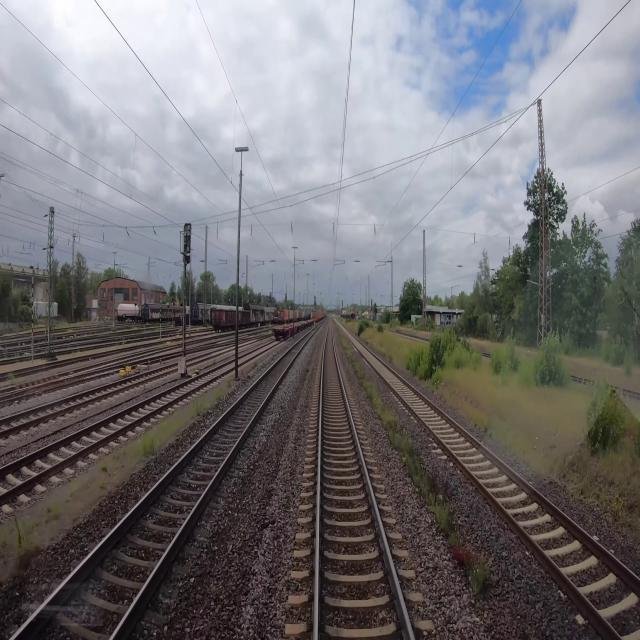Plant: (344, 321, 639, 543), (336, 326, 495, 599), (130, 394, 208, 461), (8, 512, 43, 577), (45, 502, 58, 526), (216, 378, 232, 397), (100, 461, 108, 489)
